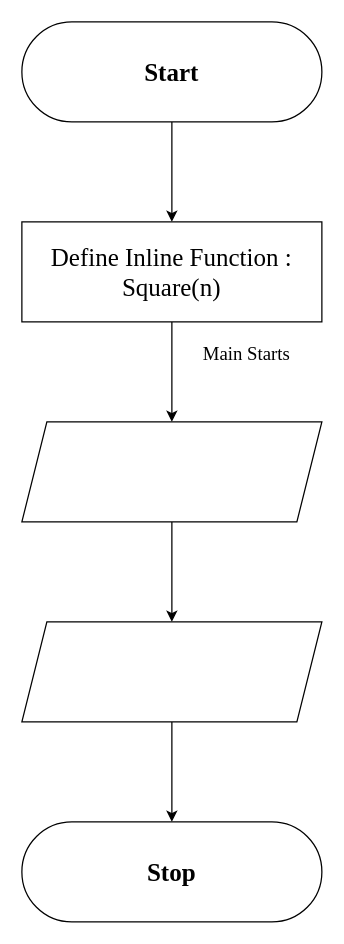
Image size: 344x944. Some labels were removed from this diagram. Each missing label, with the centre of its shape:
Get number from user: point 171,471
Return Square(num): point 171,671
